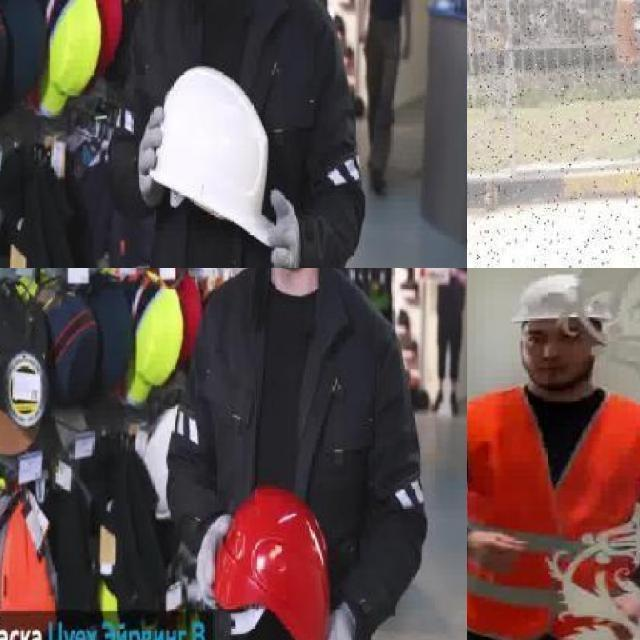apron: (194, 510, 232, 601), (136, 102, 168, 210), (262, 189, 300, 268), (305, 594, 359, 640)
